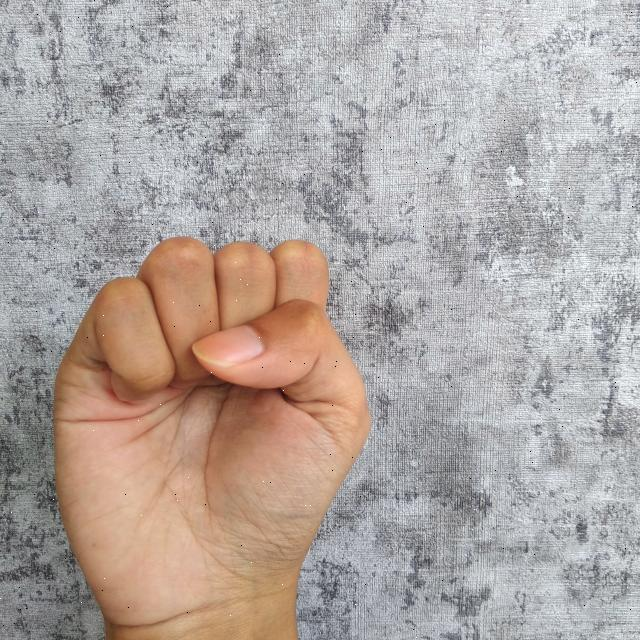S: (48, 232, 376, 640)
